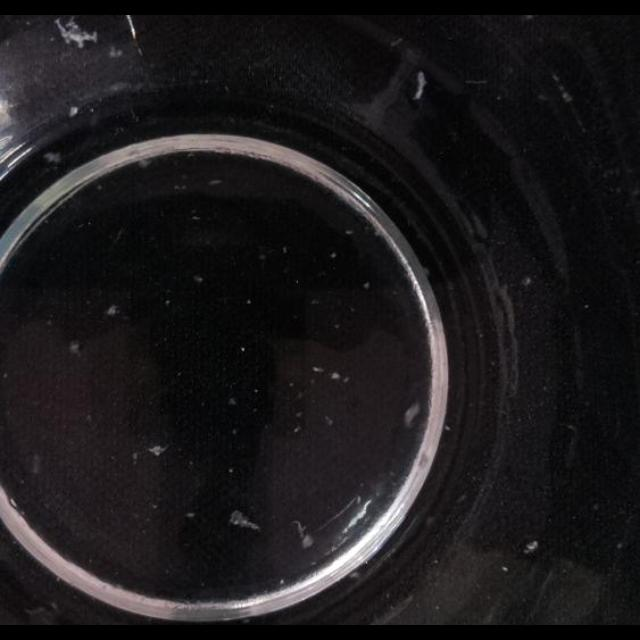Fibre: (489, 276, 519, 396), (228, 510, 258, 532), (553, 78, 573, 104), (292, 520, 310, 544), (412, 70, 426, 100), (148, 444, 168, 456), (44, 152, 61, 164), (68, 106, 78, 118)
microbeads: (522, 540, 538, 554), (106, 304, 120, 316), (69, 340, 81, 354), (228, 396, 238, 406), (521, 276, 531, 286), (311, 365, 323, 373), (331, 372, 341, 381), (192, 276, 202, 284), (132, 452, 140, 461), (164, 299, 172, 307), (362, 281, 370, 289), (293, 426, 301, 434), (185, 512, 195, 518), (444, 424, 451, 432), (278, 578, 284, 586), (330, 252, 338, 258), (192, 216, 202, 220), (228, 468, 234, 474), (240, 346, 246, 352), (502, 566, 508, 572), (246, 298, 252, 304)
